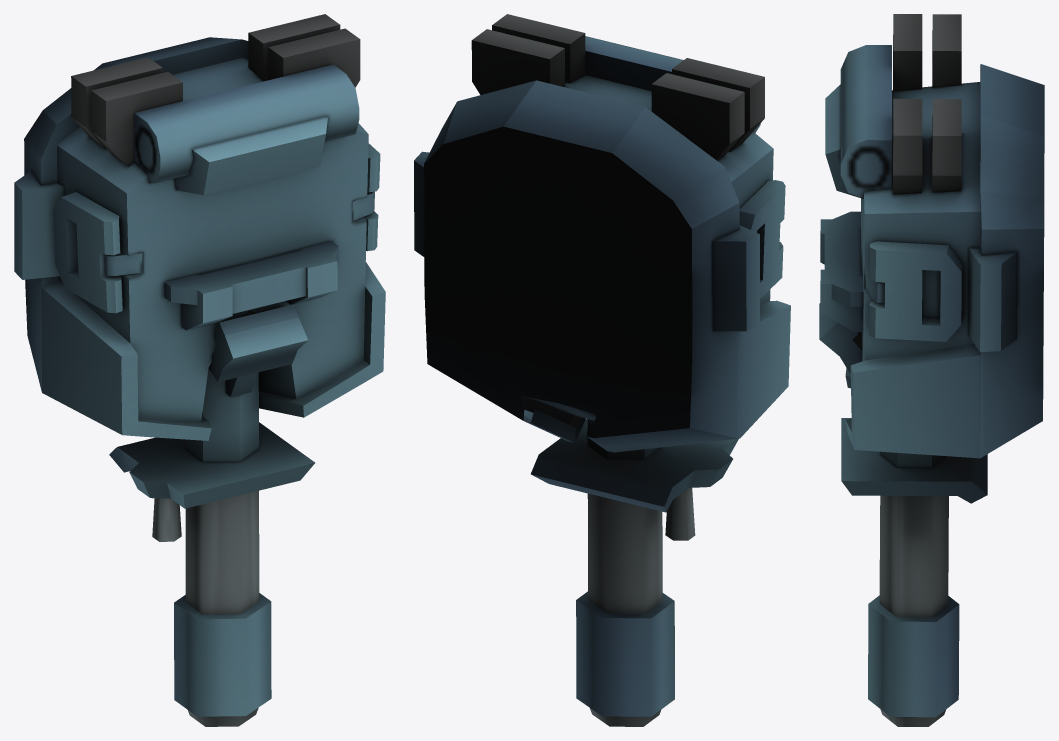
The model's file is Tank_head.obj.
The picture shows the model from 3 angles, left to right: view 1: azimuth 30°, elevation 25°; view 2: azimuth 150°, elevation 25°; view 3: azimuth 270°, elevation 25°; orthographic projection. The views are drawn at different scales.
Parts seen in each view (by area): view 1: tank_Cube.000_Cube.001; view 2: tank_Cube.000_Cube.001; view 3: tank_Cube.000_Cube.001.
Boxes of the visible parts, x1,y1,x2,y2 form: tank_Cube.000_Cube.001: (14, 14, 385, 726); tank_Cube.000_Cube.001: (414, 14, 790, 726); tank_Cube.000_Cube.001: (819, 14, 1044, 726).
Bounding box in the file's own units: 2.13 × 3.99 × 1.27.
Materials: 1 (1 with a texture image).
